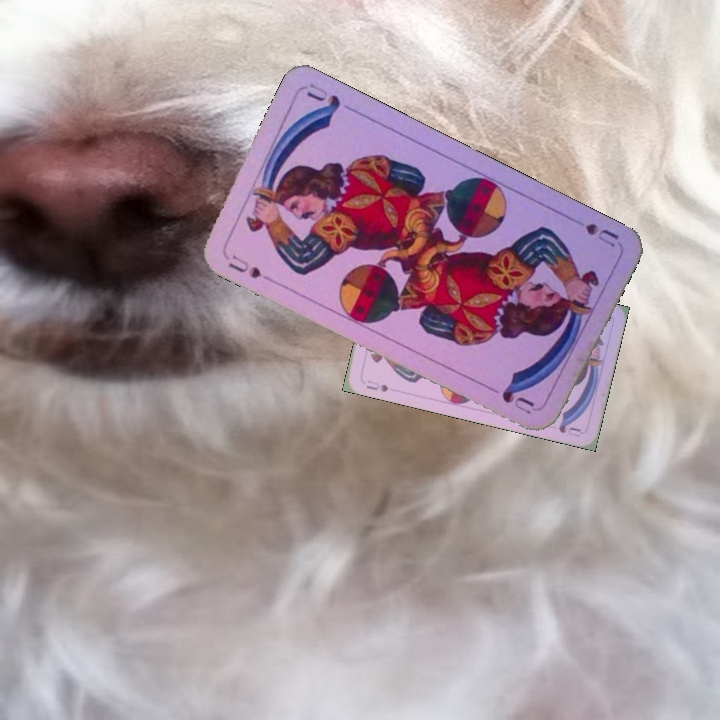SU: (565, 212, 621, 250), (224, 250, 276, 285), (362, 376, 391, 395)
